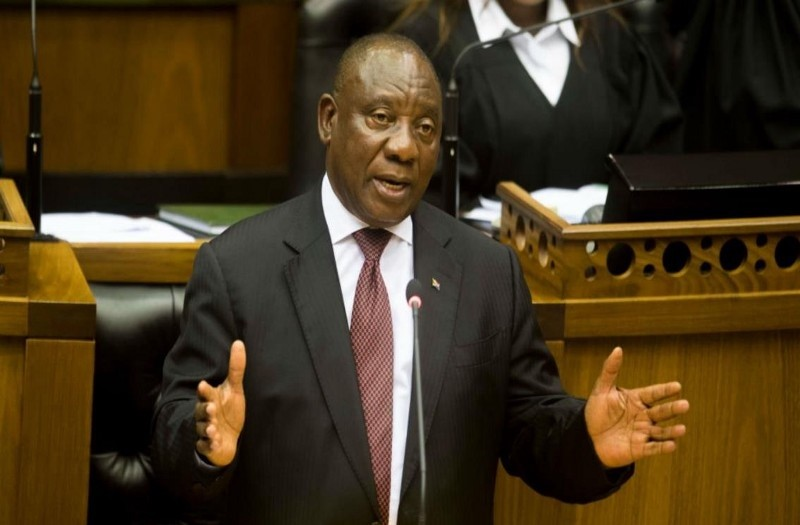face_no_mask: (317, 33, 444, 221)
